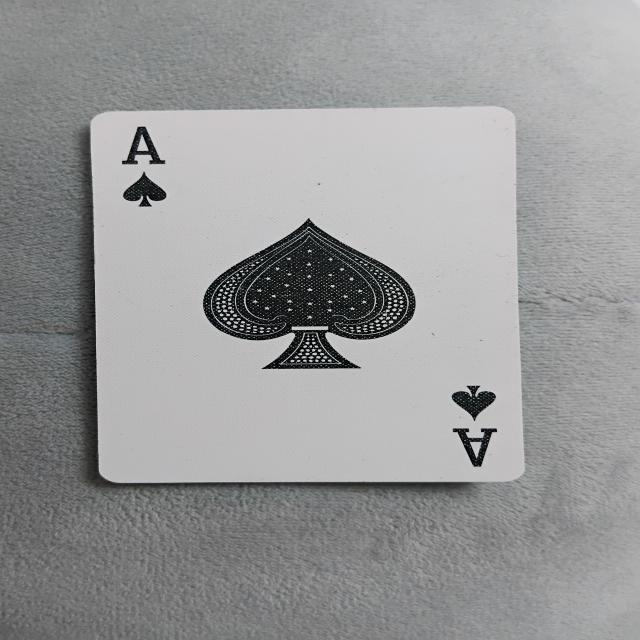AS: (86, 105, 544, 486)
